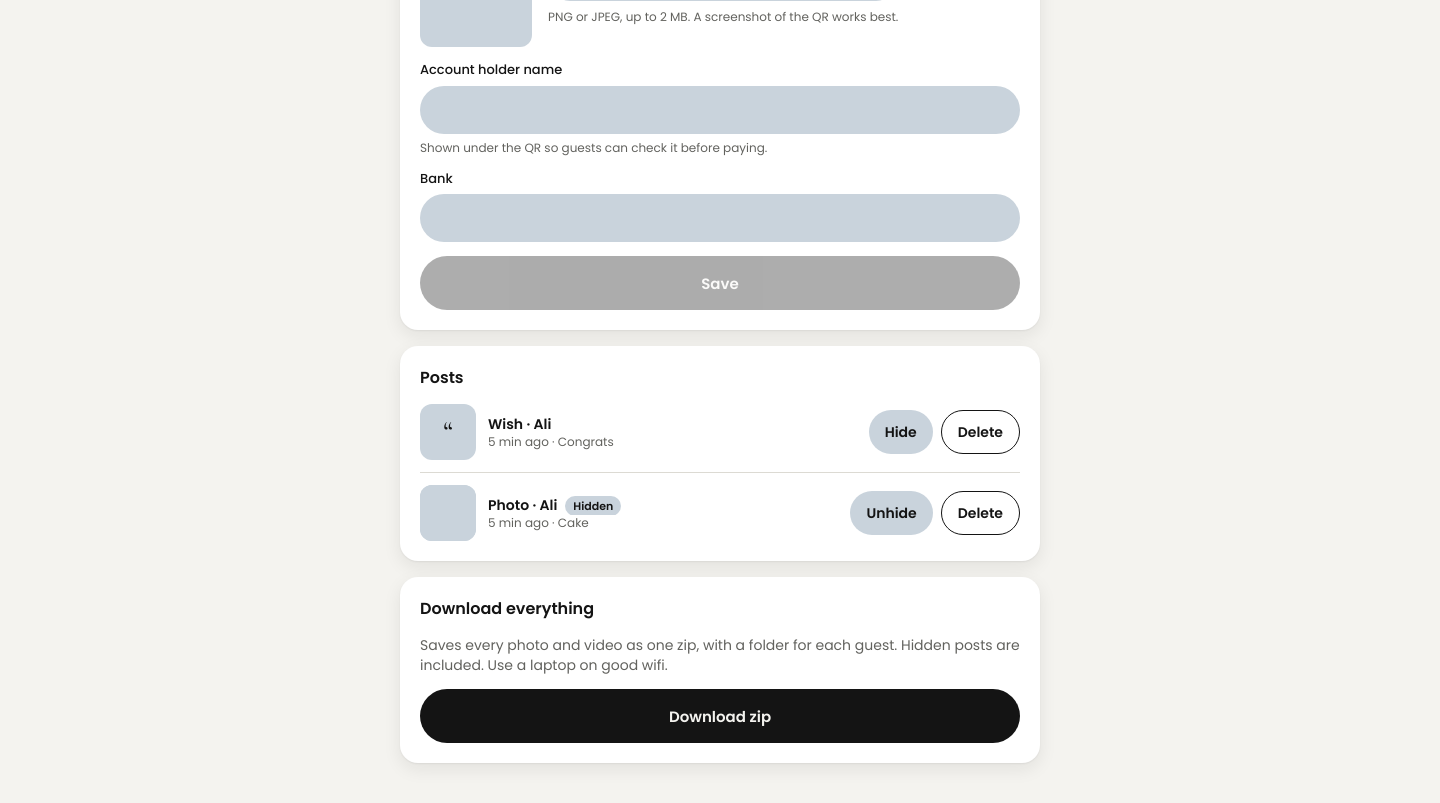
AdminDashboard › hides, unhides and deletes a post, with a confirmation for the delete
(page scrolled)
Expected: the text "Hidden" is shown, top-left (565, 496), bottom-right (621, 515)
What coordinates should you click on to do the following:
click the button "Hide"
I would click on:
 (901, 432)
Its box is top-left (869, 410), bottom-right (933, 454).
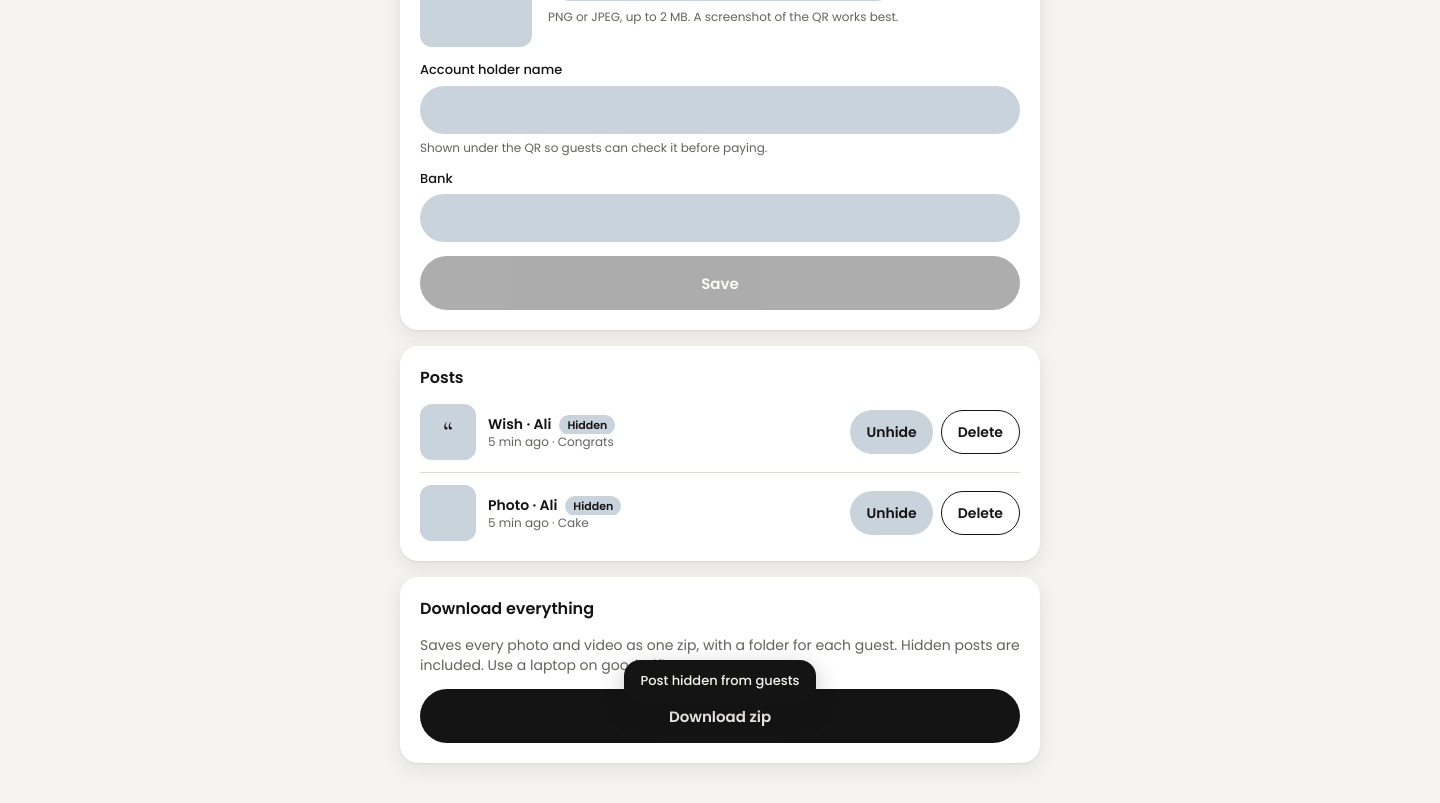
Now the text "Hidden" is shown 2 times, box top-left (559, 415), bottom-right (615, 434); top-left (565, 496), bottom-right (621, 515)
What coordinates should you click on to do the following:
click the button "Unhide" in the row of "· Congrats"
I would click on:
 (892, 432)
Its box is top-left (850, 410), bottom-right (933, 454).
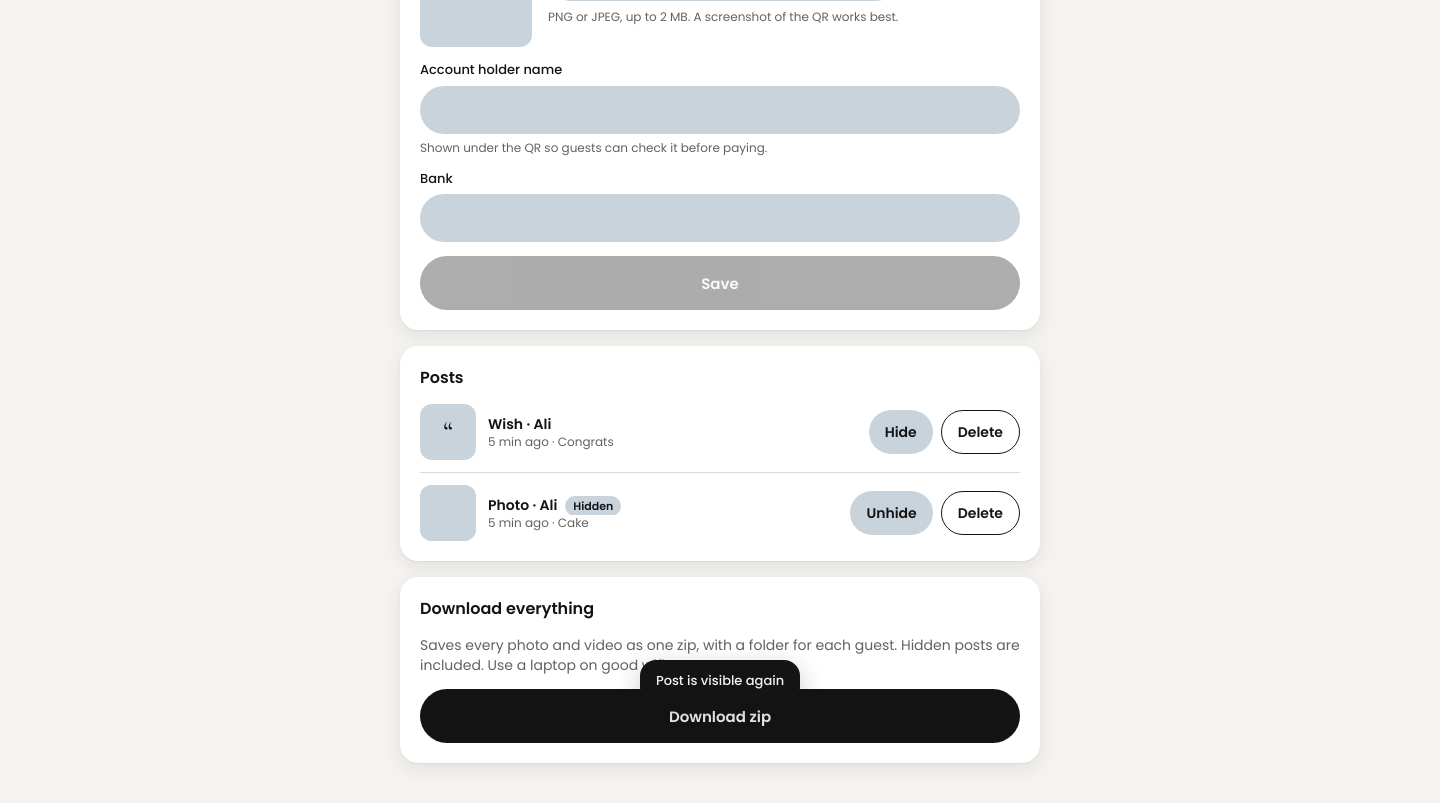
What coordinates should you click on to do the following:
click the button "Delete" in the row of "· Congrats"
I would click on:
 (980, 432)
Its box is top-left (941, 410), bottom-right (1020, 454).
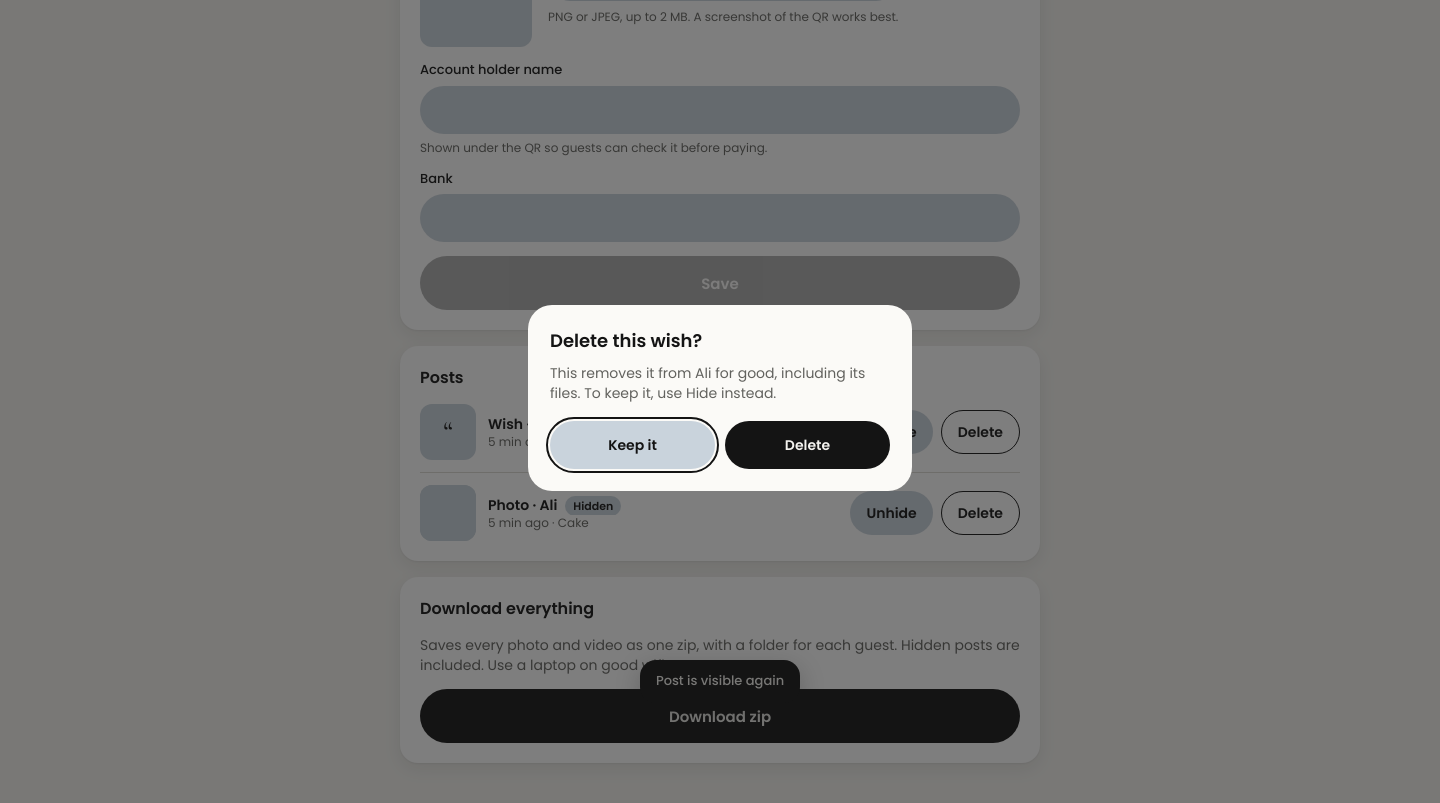
What coordinates should you click on to do the following:
click the button "Delete"
I would click on:
 (808, 445)
Its box is top-left (725, 421), bottom-right (890, 469).
(page scrolled)
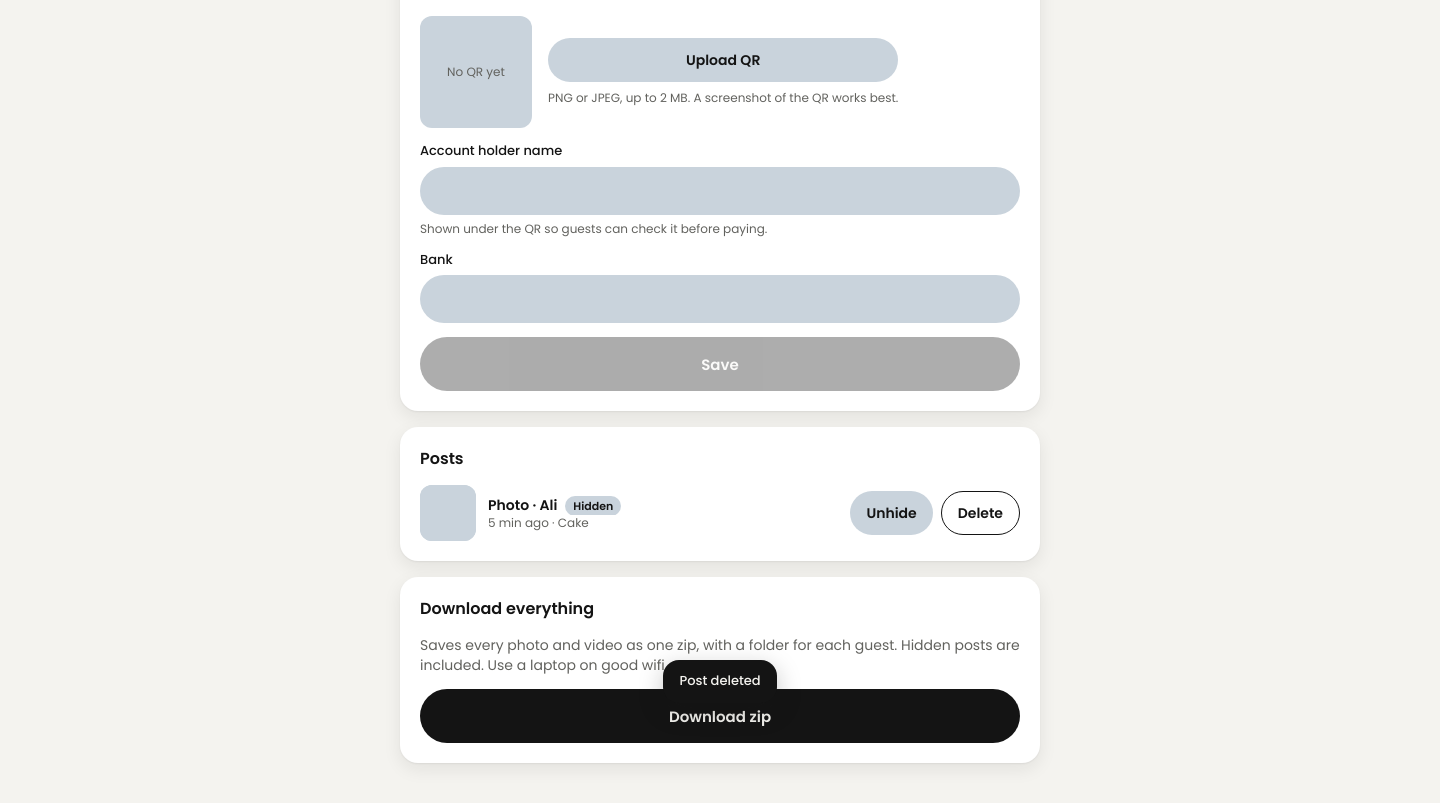
Now the text "Wish · Ali" is gone
